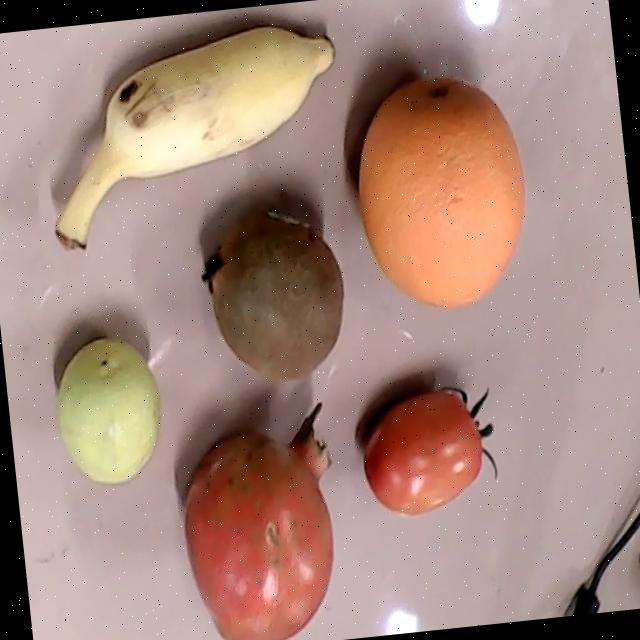kiwi: (199, 208, 344, 381)
lemon: (57, 334, 158, 484)
orange: (356, 74, 526, 305)
pomegranate: (182, 402, 334, 640)
tomato: (362, 383, 496, 515)
